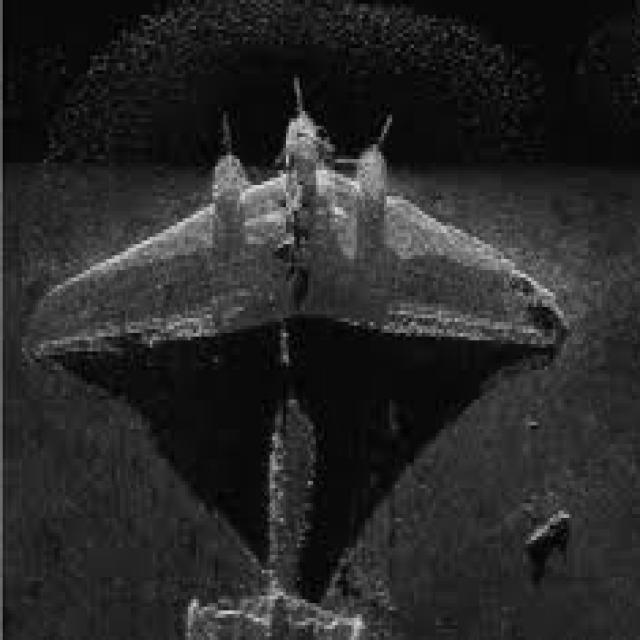plane: (19, 81, 580, 603)
